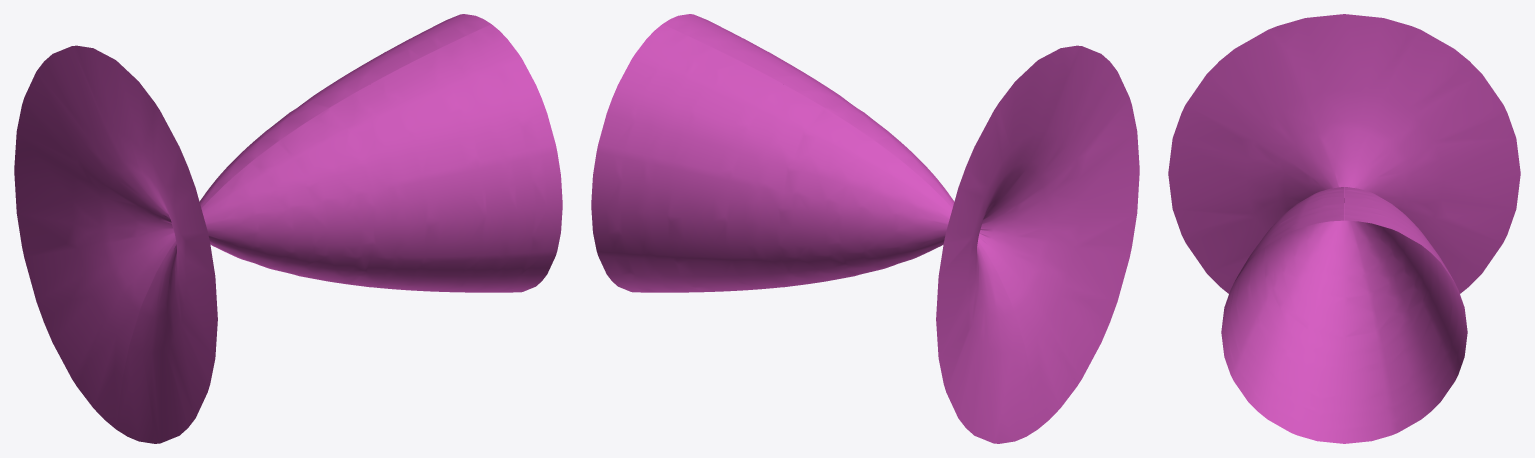
The model's file is lnxdae.dae.
3 views of the same model, side by side, from view 1: azimuth 30°, elevation 25°; view 2: azimuth 150°, elevation 25°; view 3: azimuth 270°, elevation 25° (orthographic). The views are drawn at different scales.
Parts seen in each view (by area): view 1: Lnx; view 2: Lnx; view 3: Lnx.
Boxes of the visible parts, x1,y1,x2,y2 form: Lnx: [14, 14, 562, 443]; Lnx: [591, 14, 1139, 443]; Lnx: [1168, 14, 1520, 443].
Size of the model in its own units: 4.9 by 4.61 by 4.61.
